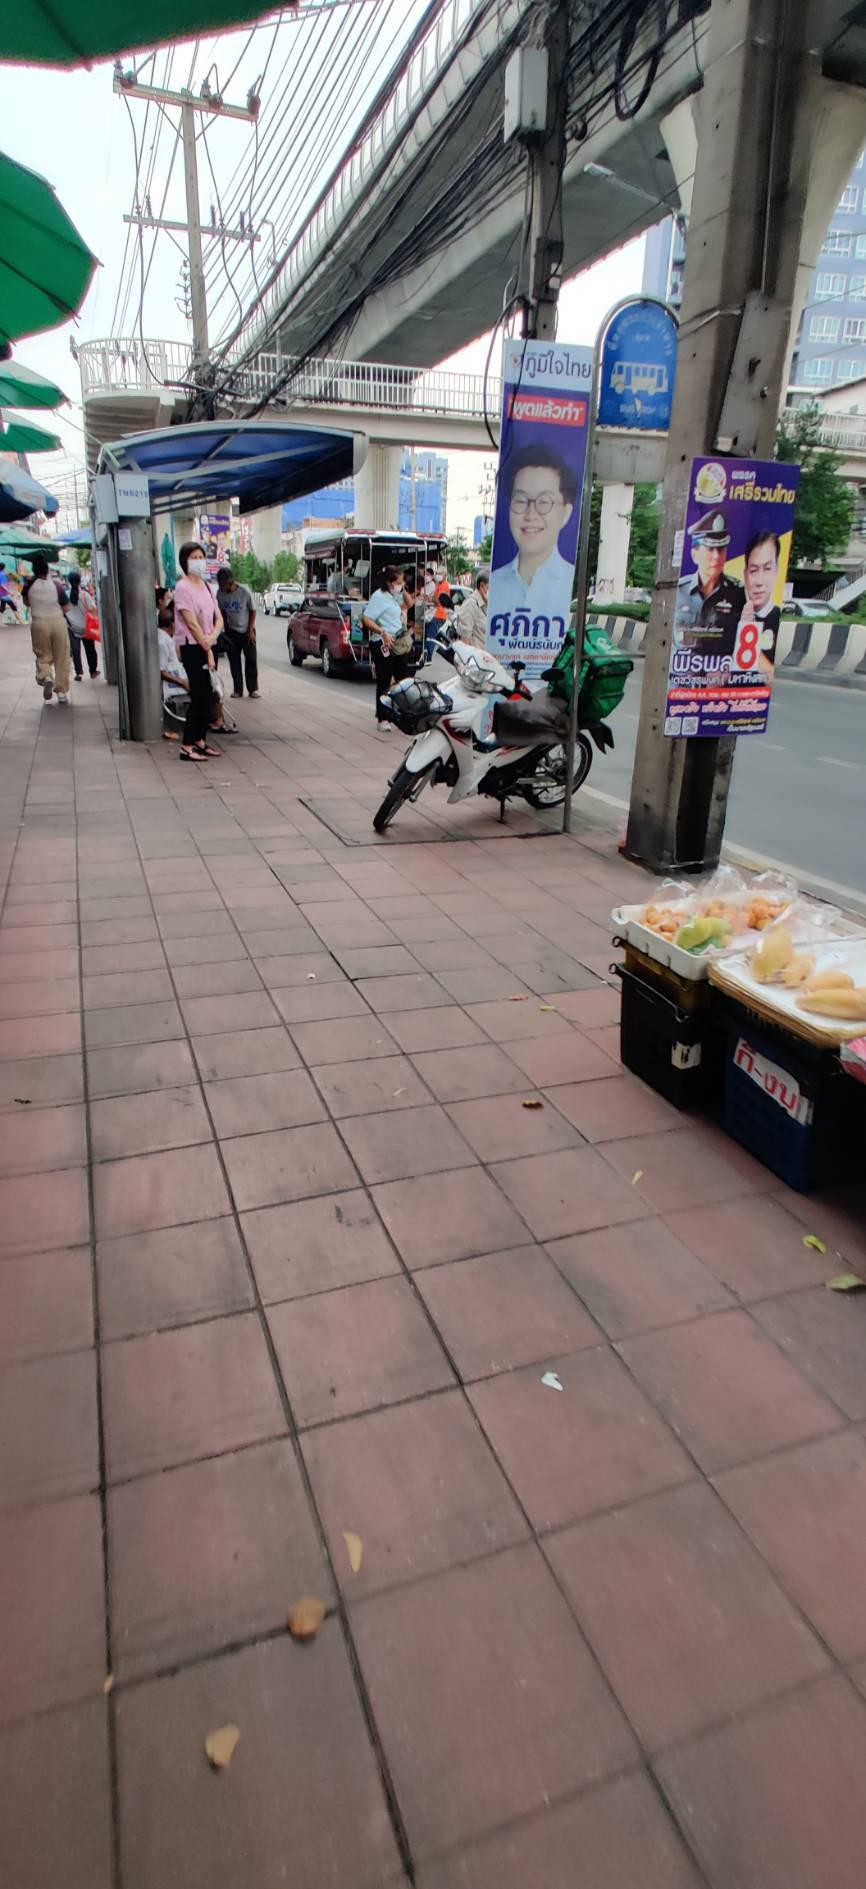Banner: (658, 452, 799, 737), (482, 320, 587, 657)
